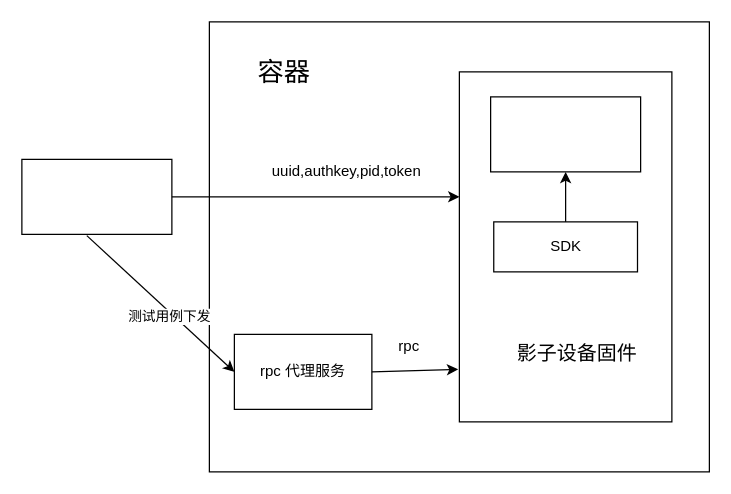
The diagram is 731 pixels wide and 494 high, and some of its shapes have lost their labels. The shapes that lost their labels are listed below. From the top down, each one's centre as x and y in pixels, then its label:
point (565, 134): SDK DEMO
point (96, 196): 研测平台
